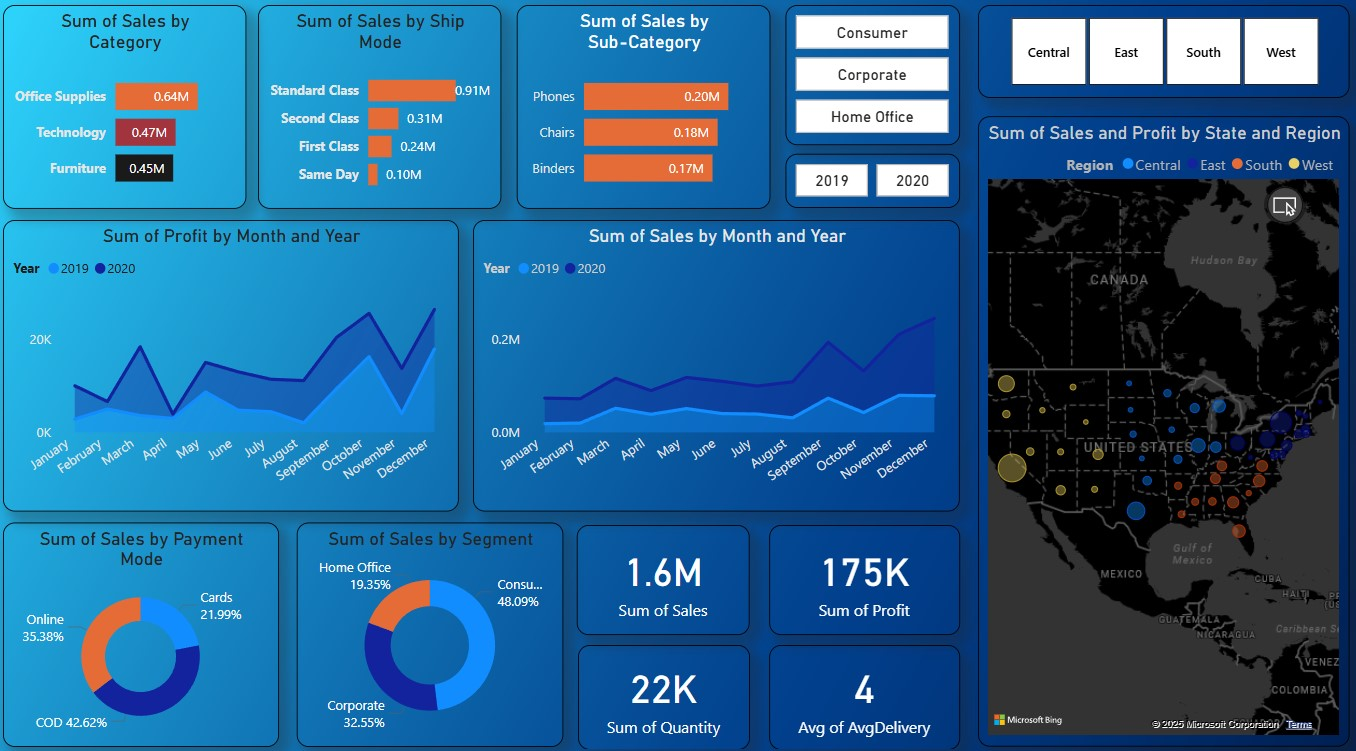

The dashboard page shown, as its layout file describes it:
{"tool":"powerbi","page":{"name":"Page 1","canvas":[1280,720],"ordinal":0},"visuals":[{"type":"clusteredBarChart","fields":{"Category":["Table1_2.Category"],"Y":["Sum(Table1_2.Sales)"]},"box":[9.6,9.6,226.4,189.4],"z":0},{"type":"clusteredBarChart","fields":{"Category":["Table1_2.Ship Mode"],"Y":["Sum(Table1_2.Sales)"]},"box":[247,9.6,226.4,189.4],"z":1000},{"type":"clusteredBarChart","fields":{"Category":["Table1_2.Sub-Category"],"Y":["Sum(Table1_2.Sales)"]},"box":[487.1,9.6,236,189.4],"z":2000},{"type":"stackedAreaChart","fields":{"Y":["Sum(Table1_2.Sales)"],"Category":["Table1_2.Order Date.Variation.Date Hierarchy.Year","Table1_2.Order Date.Variation.Date Hierarchy.Month"],"Series":["Table1_2.Order Date.Variation.Date Hierarchy.Year"]},"box":[446.8,209.6,452.8,271],"z":3000},{"type":"stackedAreaChart","fields":{"Category":["Table1_2.Order Date.Variation.Date Hierarchy.Year","Table1_2.Order Date.Variation.Date Hierarchy.Month"],"Series":["Table1_2.Order Date.Variation.Date Hierarchy.Year"],"Y":["Sum(Table1_2.Profit)"]},"box":[9.6,209.6,423.9,271],"z":4000},{"type":"map","title":"Sum of Sales and  Profit by State and Region","fields":{"Category":["Table1_2.State"],"Size":["Sum(Table1_2.Sales)"],"Series":["Table1_2.Region"]},"box":[916.5,113.2,345.7,586.5],"z":5000},{"type":"donutChart","fields":{"Y":["Sum(Table1_2.Sales)"],"Series":["Table1_2.Segment"]},"box":[282.7,491.3,248.4,208.6],"z":6000},{"type":"donutChart","fields":{"Y":["Sum(Table1_2.Sales)"],"Series":["Table1_2.Payment Mode"]},"box":[9.6,491.3,256.6,208.6],"z":7000},{"type":"slicer","fields":{"Values":["Table1_2.Region"]},"box":[916.5,9.6,345.7,86.7],"z":8000},{"type":"card","fields":{"Values":["Sum(Table1_2.Sales)"]},"box":[543.3,493.3,161.1,102.2],"z":9000},{"type":"card","fields":{"Values":["Sum(Table1_2.Quantity)"]},"box":[544.4,604.4,160,97.8],"z":10000},{"type":"card","fields":{"Values":["Sum(Table1_2.Profit)"]},"box":[722.2,493.3,177.8,102.2],"z":11000},{"type":"card","fields":{"Values":["Avg(Table1_2.AvgDelivery1)"]},"box":[722.2,604.4,177.8,97.8],"z":12000},{"type":"advancedSlicerVisual","fields":{"Values":["Table1_2.Segment"]},"box":[737.1,9.6,162.6,130.1],"z":13000},{"type":"advancedSlicerVisual","fields":{"Values":["Table1_2.Order Date.Variation.Date Hierarchy.Year"]},"box":[737.1,148.1,162.6,50.6],"z":14000}]}

Visuals, with their boxes in screenshot pixels (x1, y1, x2, y2), scaled from the page's 1280x720 canvas onto the 1356x751 screenshot:
clusteredBarChart - Table1_2.Category x Sum(Table1_2.Sales): (x1=10, y1=10, x2=250, y2=208)
clusteredBarChart - Table1_2.Ship Mode x Sum(Table1_2.Sales): (x1=262, y1=10, x2=502, y2=208)
clusteredBarChart - Table1_2.Sub-Category x Sum(Table1_2.Sales): (x1=516, y1=10, x2=766, y2=208)
stackedAreaChart - Sum(Table1_2.Sales) x Table1_2.Order Date.Variation.Date Hierarchy.Year: (x1=473, y1=219, x2=953, y2=501)
stackedAreaChart - Table1_2.Order Date.Variation.Date Hierarchy.Year x Table1_2.Order Date.Variation.Date Hierarchy.Month: (x1=10, y1=219, x2=459, y2=501)
"Sum of Sales and  Profit by State and Region" map: (x1=971, y1=118, x2=1337, y2=730)
donutChart - Sum(Table1_2.Sales) x Table1_2.Segment: (x1=299, y1=512, x2=563, y2=730)
donutChart - Sum(Table1_2.Sales) x Table1_2.Payment Mode: (x1=10, y1=512, x2=282, y2=730)
slicer - Table1_2.Region: (x1=971, y1=10, x2=1337, y2=100)
card - Sum(Table1_2.Sales): (x1=576, y1=515, x2=746, y2=621)
card - Sum(Table1_2.Quantity): (x1=577, y1=630, x2=746, y2=732)
card - Sum(Table1_2.Profit): (x1=765, y1=515, x2=953, y2=621)
card - Avg(Table1_2.AvgDelivery1): (x1=765, y1=630, x2=953, y2=732)
advancedSlicerVisual - Table1_2.Segment: (x1=781, y1=10, x2=953, y2=146)
advancedSlicerVisual - Table1_2.Order Date.Variation.Date Hierarchy.Year: (x1=781, y1=154, x2=953, y2=207)
